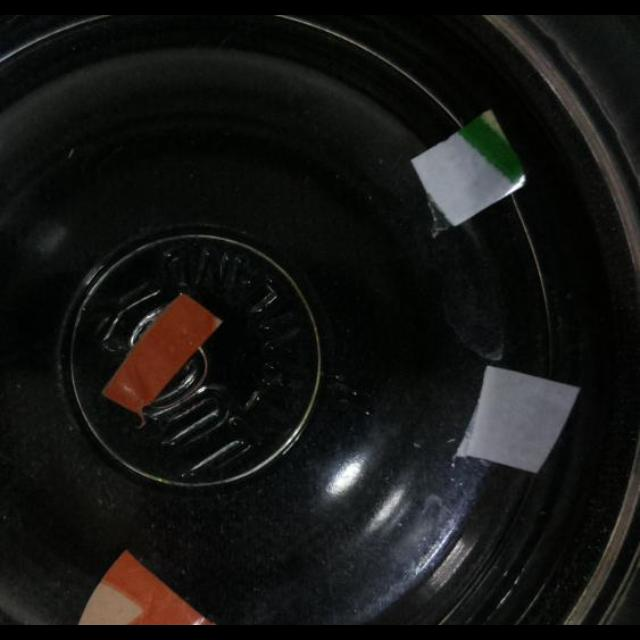Fragment: (100, 294, 224, 422), (453, 362, 579, 476), (408, 112, 524, 228), (72, 548, 222, 626)
